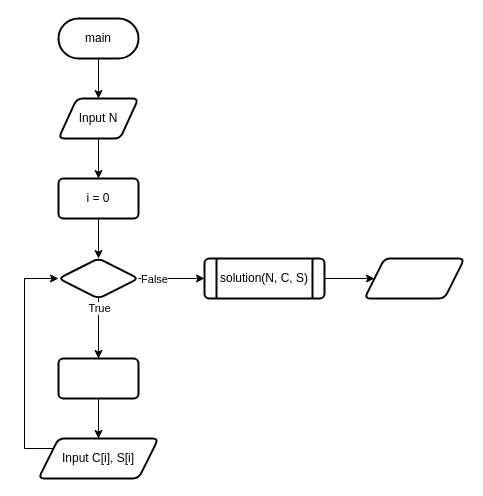
Some shapes in this 483 by 496 pixel diagram are drawn without their labels. Here are the shapes that lost their labels. From the top down, the centre of each, then its label:
At pixel 98 278: "i < N".
At pixel 414 278: "Print output".
At pixel 98 378: "i = i + 1".
